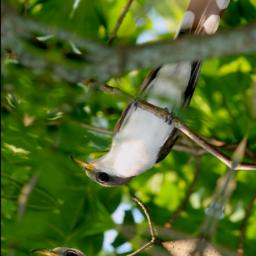Cuckoo: (61, 0, 240, 206)
